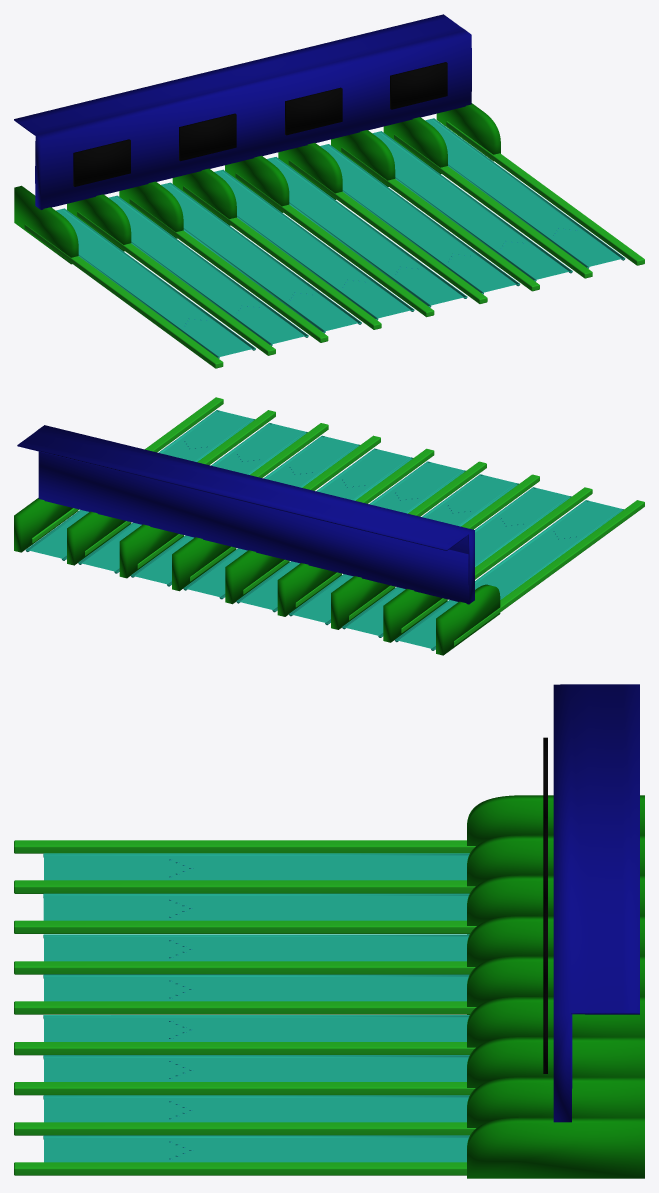
Rendered from alley 2.obj.
The picture shows the model from 3 angles, top to bottom: view 1: azimuth 30°, elevation 25°; view 2: azimuth 150°, elevation 25°; view 3: azimuth 270°, elevation 25°; orthographic projection. The views are drawn at different scales.
Parts seen in each view (by area): view 1: banner, alley_floor006, alley_floor004, alley_floor005, alley_floor002, alley_floor003, alley_floor007, alley_floor001, alley_floor, sidewall001, ChamferBox008, ChamferBox009 (+28 smaller); view 2: banner, alley_floor, alley_floor007, alley_floor004, alley_floor006, alley_floor002, alley_floor005, alley_floor001, alley_floor003, sidewall001, ChamferBox009, ChamferBox007 (+23 smaller); view 3: banner, alley_floor, alley_floor002, alley_floor006, sidewall009, alley_floor007, alley_floor005, alley_floor001, alley_floor003, alley_floor004, sidewall008, ChamferBox006 (+23 smaller).
Boxes of the visible parts, left/top/right/bottom form: banner: left=14, top=14, right=471, bottom=209; alley_floor006: left=161, top=183, right=358, bottom=331; alley_floor004: left=267, top=157, right=463, bottom=305; alley_floor005: left=214, top=170, right=410, bottom=318; alley_floor002: left=372, top=132, right=568, bottom=279; alley_floor003: left=320, top=144, right=516, bottom=292; alley_floor007: left=108, top=196, right=304, bottom=344; alley_floor001: left=425, top=119, right=621, bottom=266; alley_floor: left=56, top=209, right=251, bottom=356; sidewall001: left=14, top=185, right=78, bottom=264; ChamferBox008: left=446, top=121, right=644, bottom=265; ChamferBox009: left=24, top=224, right=223, bottom=368; banner: left=17, top=425, right=474, bottom=604; alley_floor: left=398, top=501, right=621, bottom=648; alley_floor007: left=345, top=488, right=568, bottom=635; alley_floor004: left=187, top=449, right=410, bottom=596; alley_floor006: left=292, top=475, right=515, bottom=622; alley_floor002: left=81, top=423, right=304, bottom=571; alley_floor005: left=240, top=462, right=463, bottom=609; alley_floor001: left=29, top=411, right=252, bottom=558; alley_floor003: left=134, top=436, right=357, bottom=584; sidewall001: left=436, top=584, right=500, bottom=655; ChamferBox009: left=454, top=500, right=644, bottom=645; ChamferBox007: left=401, top=487, right=592, bottom=633; banner: left=553, top=684, right=639, bottom=1122; alley_floor: left=44, top=855, right=468, bottom=880; alley_floor002: left=44, top=1097, right=468, bottom=1122; alley_floor006: left=44, top=936, right=468, bottom=961; sidewall009: left=467, top=1117, right=644, bottom=1178; alley_floor007: left=43, top=896, right=468, bottom=920; alley_floor005: left=44, top=977, right=468, bottom=1001; alley_floor001: left=44, top=1138, right=468, bottom=1162; alley_floor003: left=44, top=1057, right=468, bottom=1081; alley_floor004: left=44, top=1017, right=468, bottom=1041; sidewall008: left=467, top=1077, right=644, bottom=1127; ChamferBox006: left=14, top=920, right=476, bottom=933.
Bounding box in the file's own units: 2612 × 608 × 2109.
